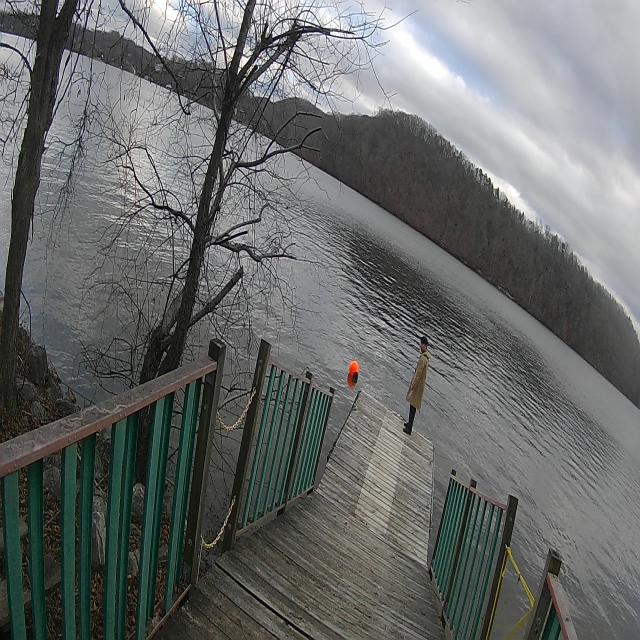Buoy: (347, 359, 362, 388)
